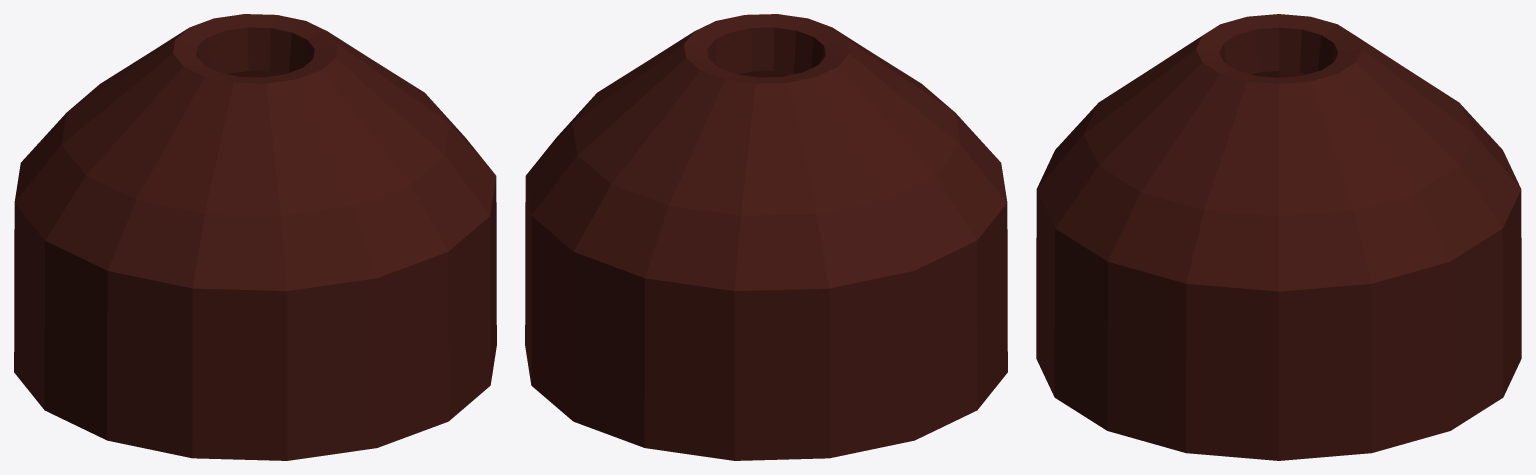
The model's file is cavetest.glb.
3 views of the same model, side by side, from view 1: azimuth 30°, elevation 25°; view 2: azimuth 150°, elevation 25°; view 3: azimuth 270°, elevation 25° (orthographic).
Visible parts, largest first — view 1: Circle; view 2: Circle; view 3: Circle.
Part boxes in pixels (<box>): Circle: <box>14,14,496,460</box>; Circle: <box>525,14,1007,460</box>; Circle: <box>1036,14,1521,460</box>.
Bounding box in the file's own units: 102 × 71.82 × 102.
